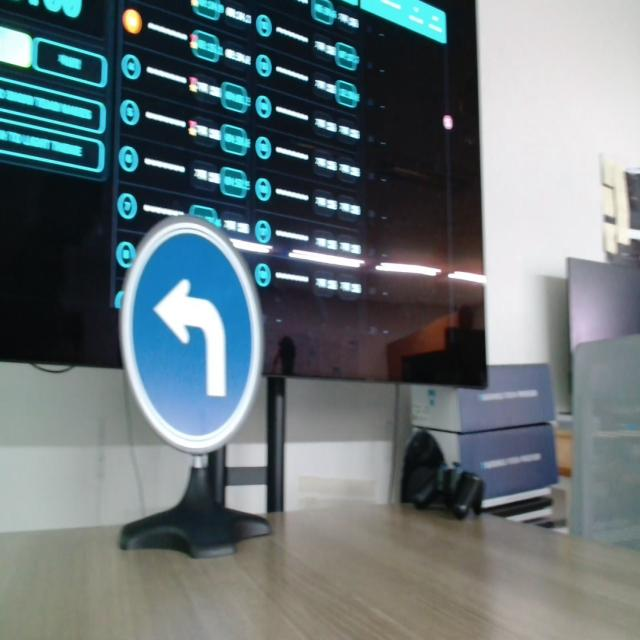left_direction: (110, 206, 273, 462)
